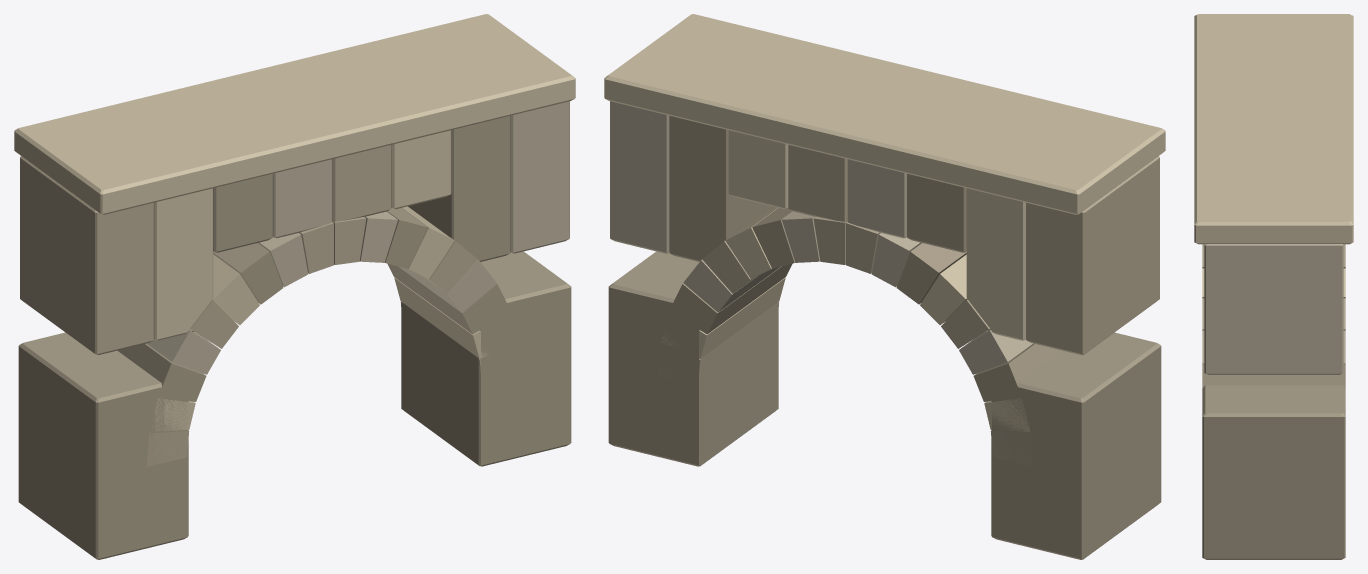
File: Bridge_Foundation_4m.fbx
3 views of the same model, side by side, from view 1: azimuth 30°, elevation 25°; view 2: azimuth 150°, elevation 25°; view 3: azimuth 270°, elevation 25° (orthographic). The views are drawn at different scales.
Visible parts, largest first — view 1: Bridge_Foundation_4m; view 2: Bridge_Foundation_4m; view 3: Bridge_Foundation_4m.
Boxes of the visible parts, x1,y1,x2,y2 form: Bridge_Foundation_4m: [14, 14, 575, 559]; Bridge_Foundation_4m: [604, 14, 1165, 559]; Bridge_Foundation_4m: [1194, 14, 1353, 559].
Size of the model in its own units: 4 by 3 by 1.28.
